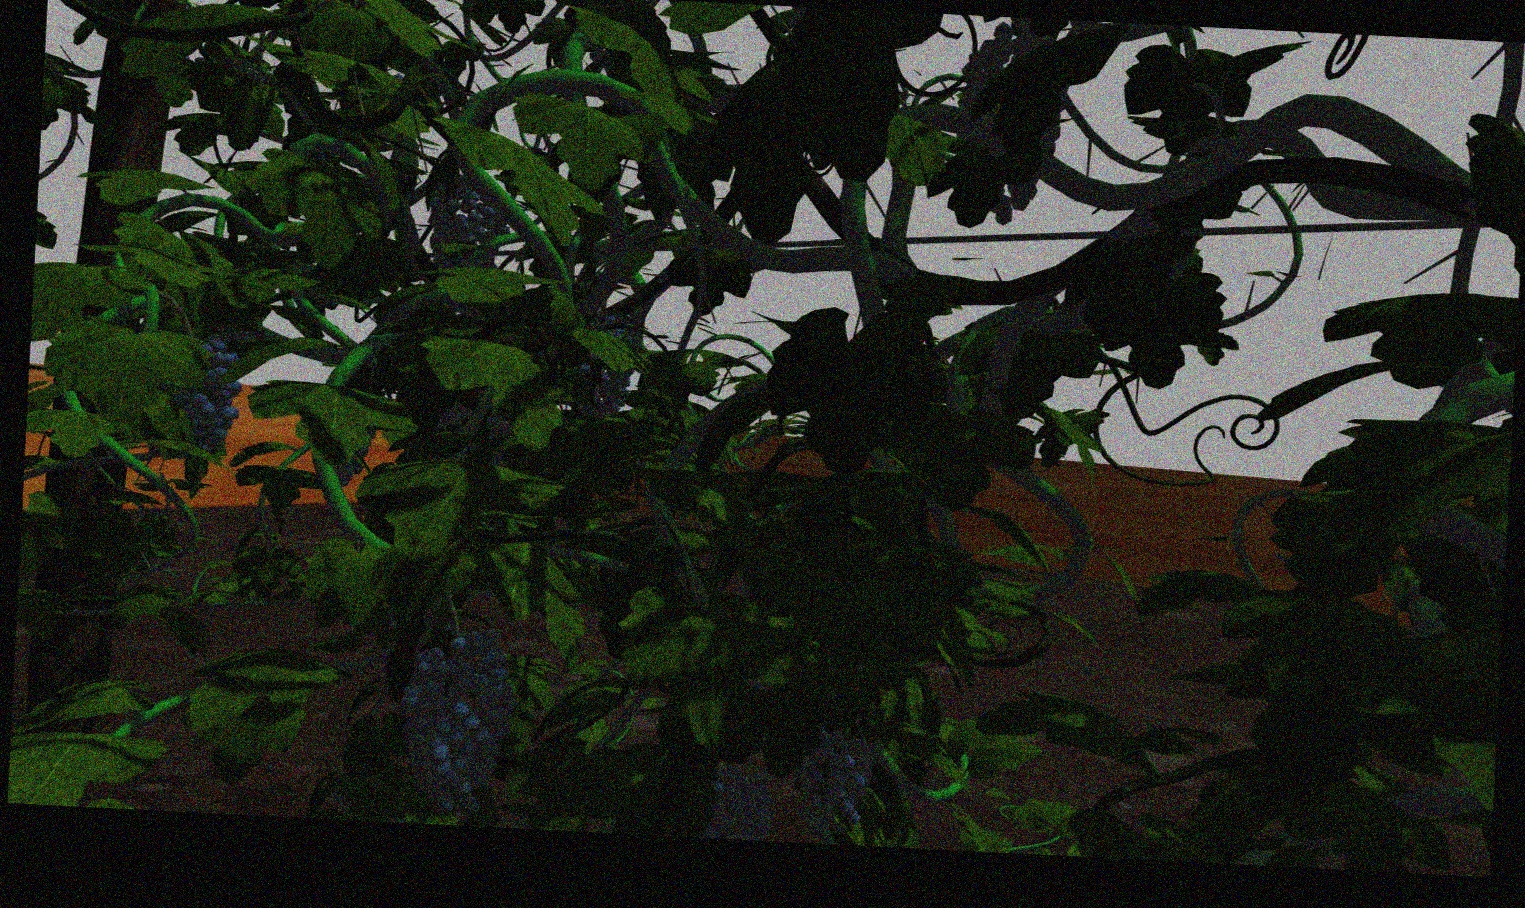grape: (398, 627, 511, 813), (172, 333, 242, 458), (425, 178, 508, 272), (800, 720, 874, 823), (711, 757, 786, 832)
